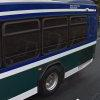Bus: (3, 0, 97, 99)
